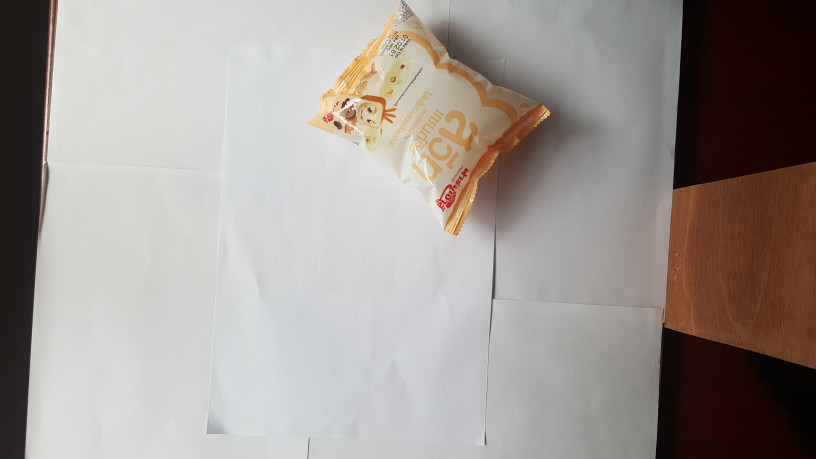farmhouse-sweetsandwich-almond: (296, 1, 573, 241)
